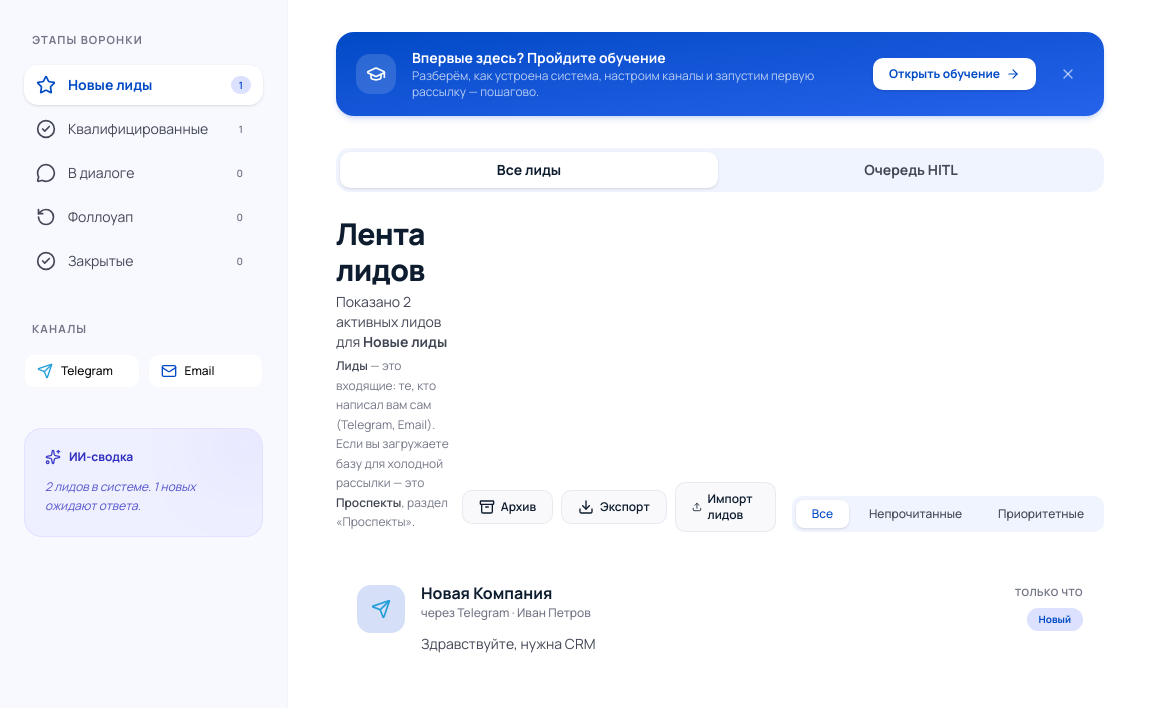
Test case: InboxPage › switches pipeline stage and shows corresponding leads
Expected: the heading "Новая Компания" is shown, [421, 582, 552, 604]
Note: Click on "Квалифицированные" stage
Click the text "Квалифицированные": x=138, y=129 [68, 119, 208, 139]
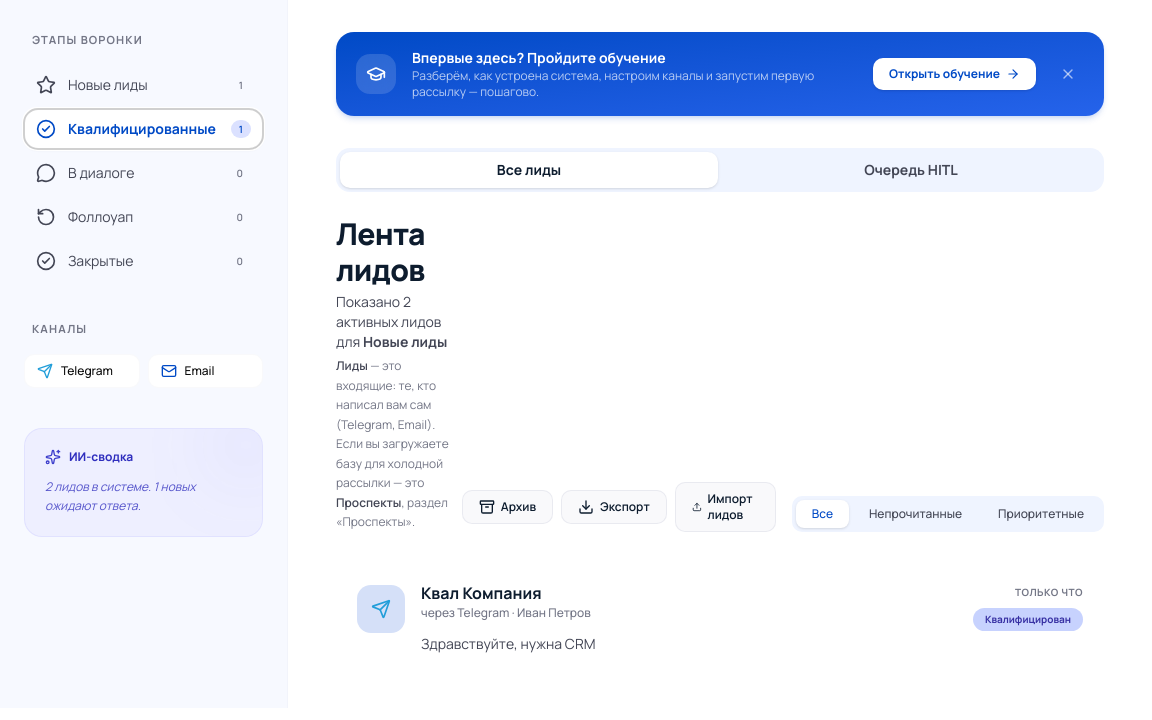
Result: the heading "Квал Компания" is shown at [421, 582, 542, 604]
Result: the link "Новая Компания" is gone
